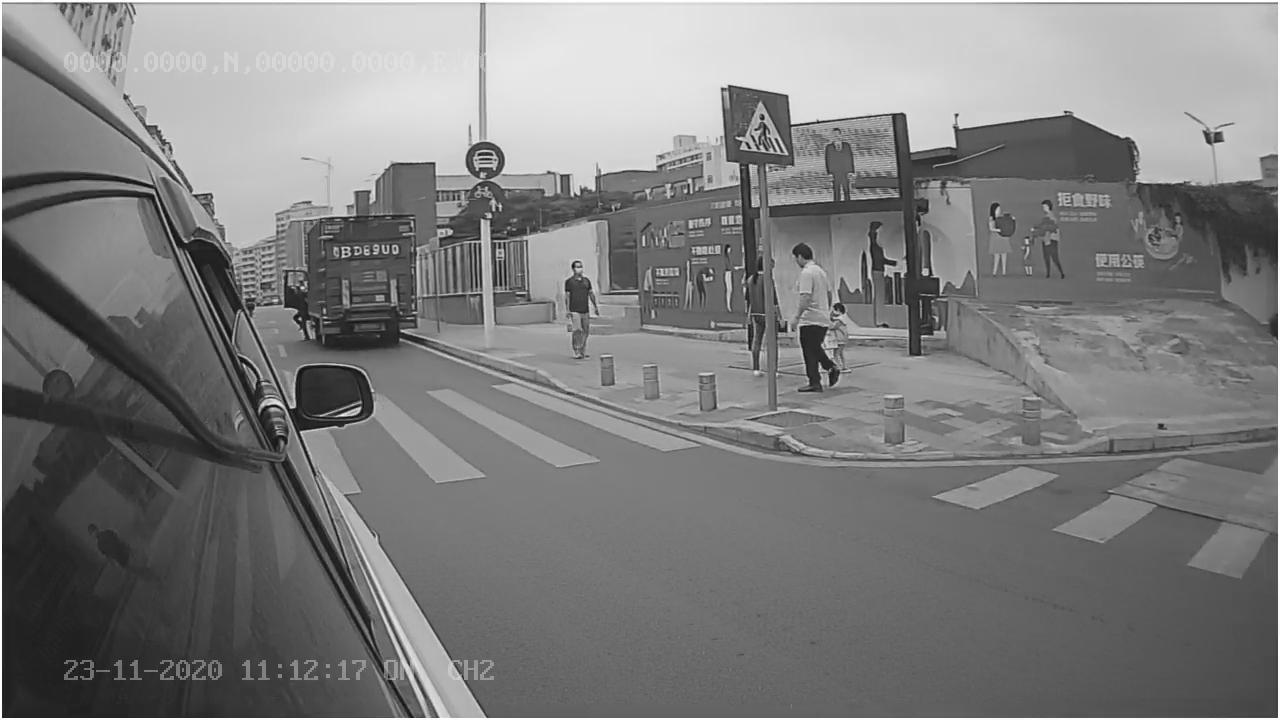person: (783, 240, 850, 403)
